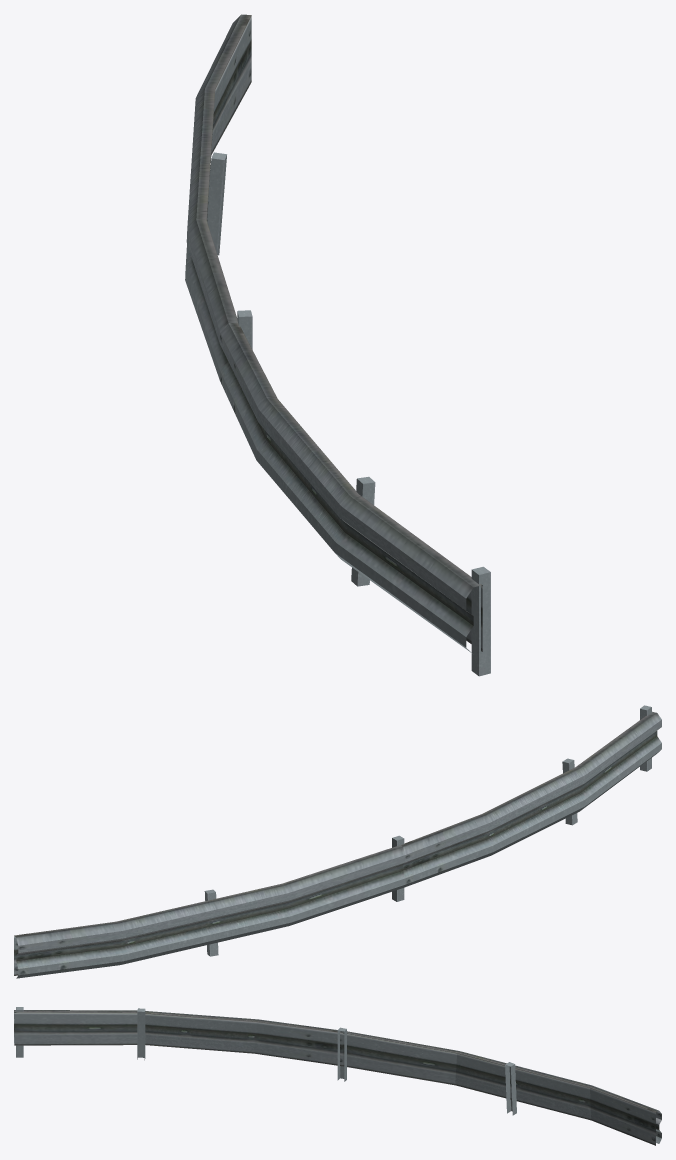
File: road_fance_curve_left_2.fbx
3 renders of one model, top to bottom at view 1: azimuth 30°, elevation 25°; view 2: azimuth 150°, elevation 25°; view 3: azimuth 270°, elevation 25°, orthographic. The views are drawn at different scales.
Visible parts, largest first — view 1: road_fance_curve_left_2; view 2: road_fance_curve_left_2; view 3: road_fance_curve_left_2.
Part boxes in pixels (bbox=[...]): road_fance_curve_left_2: bbox=[185, 14, 490, 676]; road_fance_curve_left_2: bbox=[14, 705, 661, 978]; road_fance_curve_left_2: bbox=[14, 1007, 661, 1145].
Bounding box in the file's own units: 5.04 × 1.14 × 13.16.
